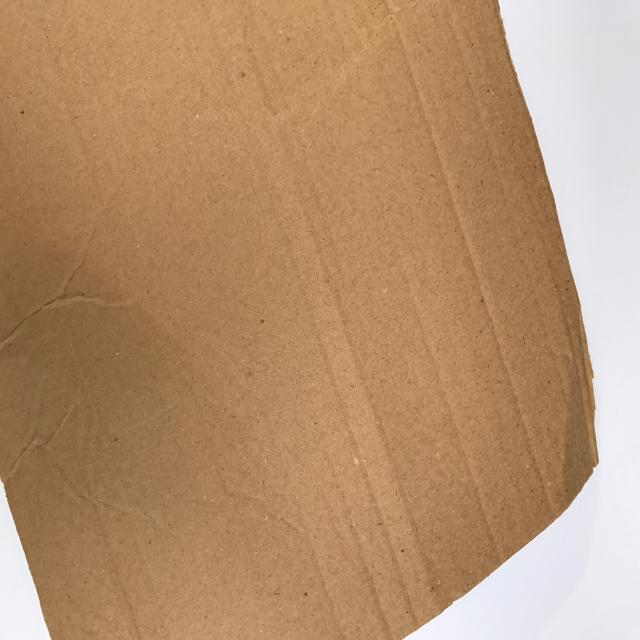cardboard: (1, 0, 606, 637)
